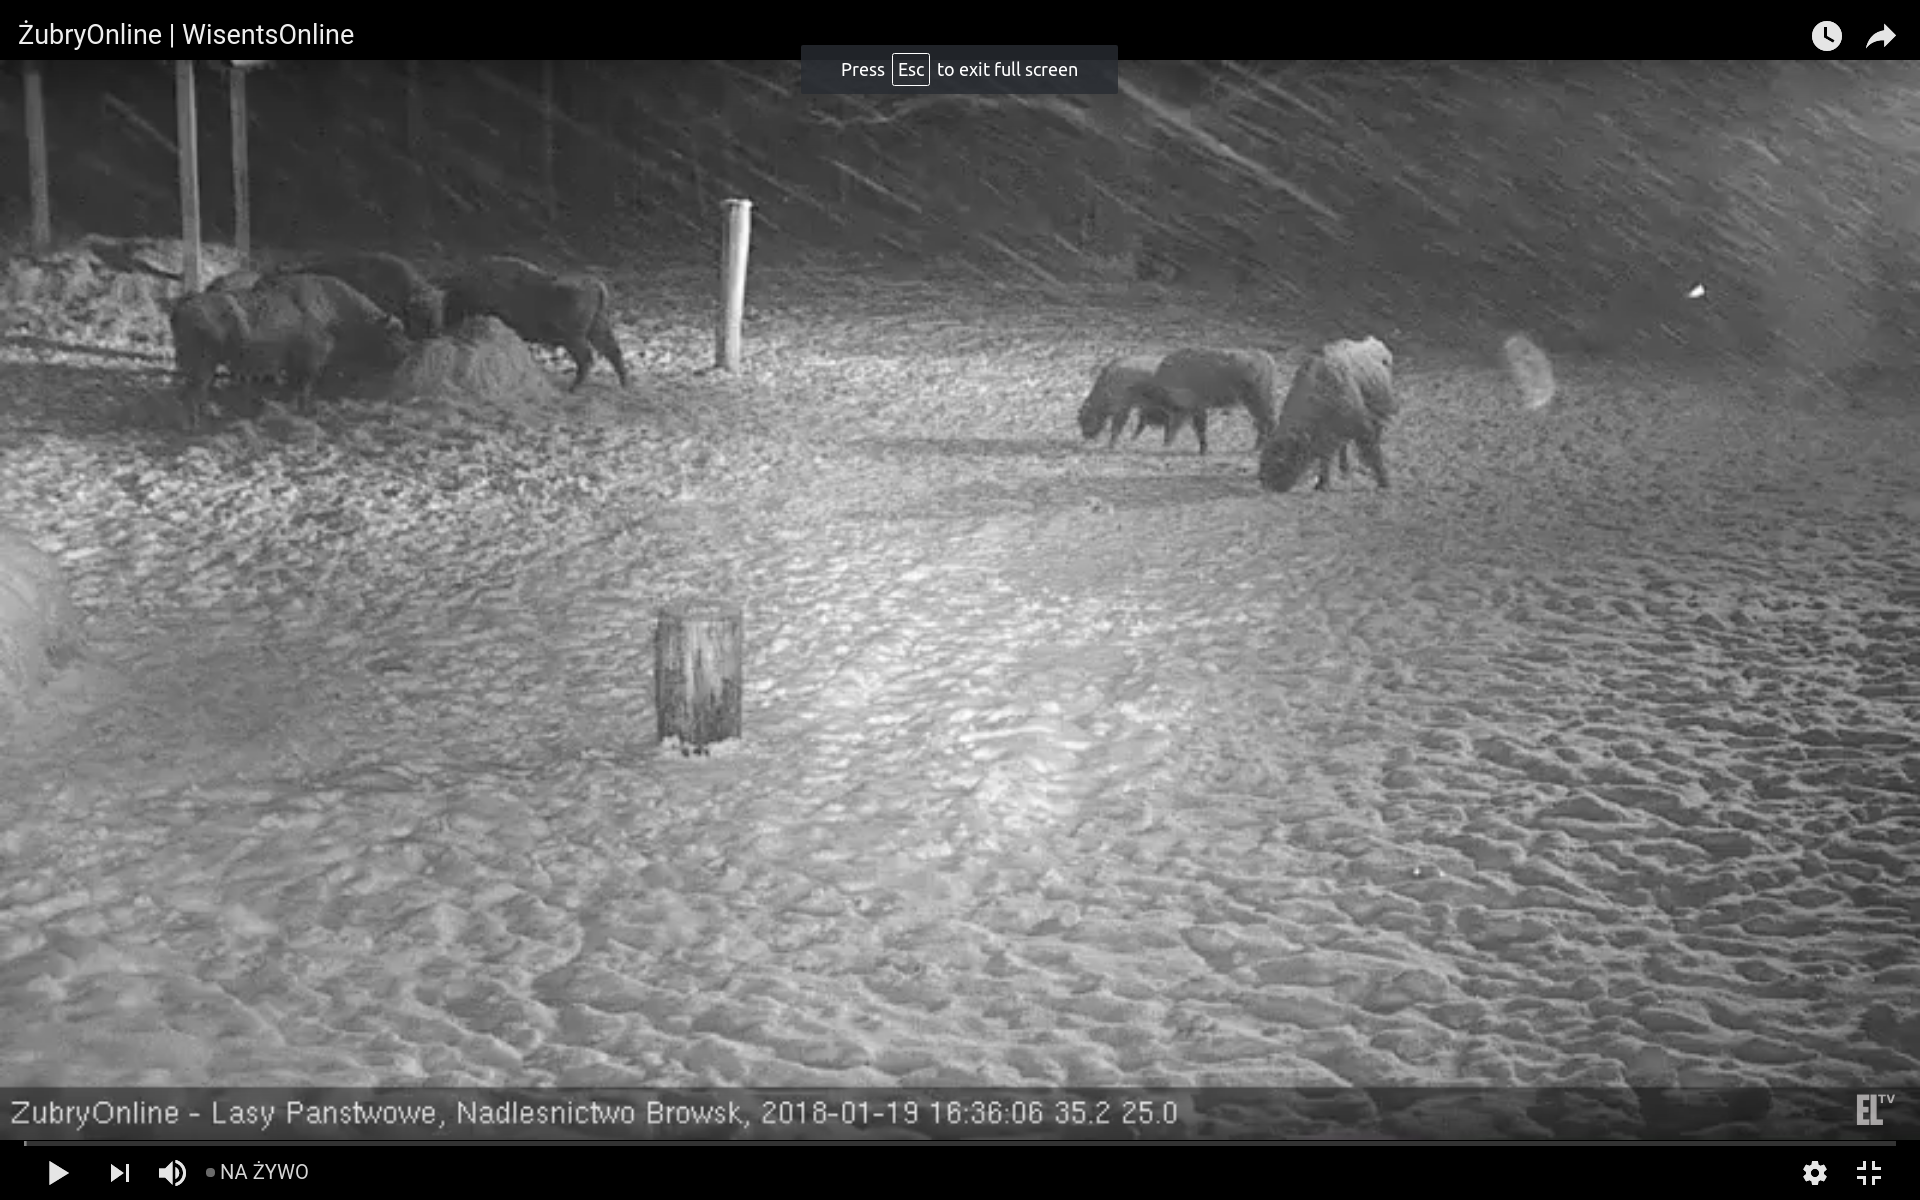zubr: (1250, 310, 1454, 534), (156, 271, 423, 442), (442, 241, 641, 409), (1142, 322, 1283, 440), (1073, 335, 1163, 444)
